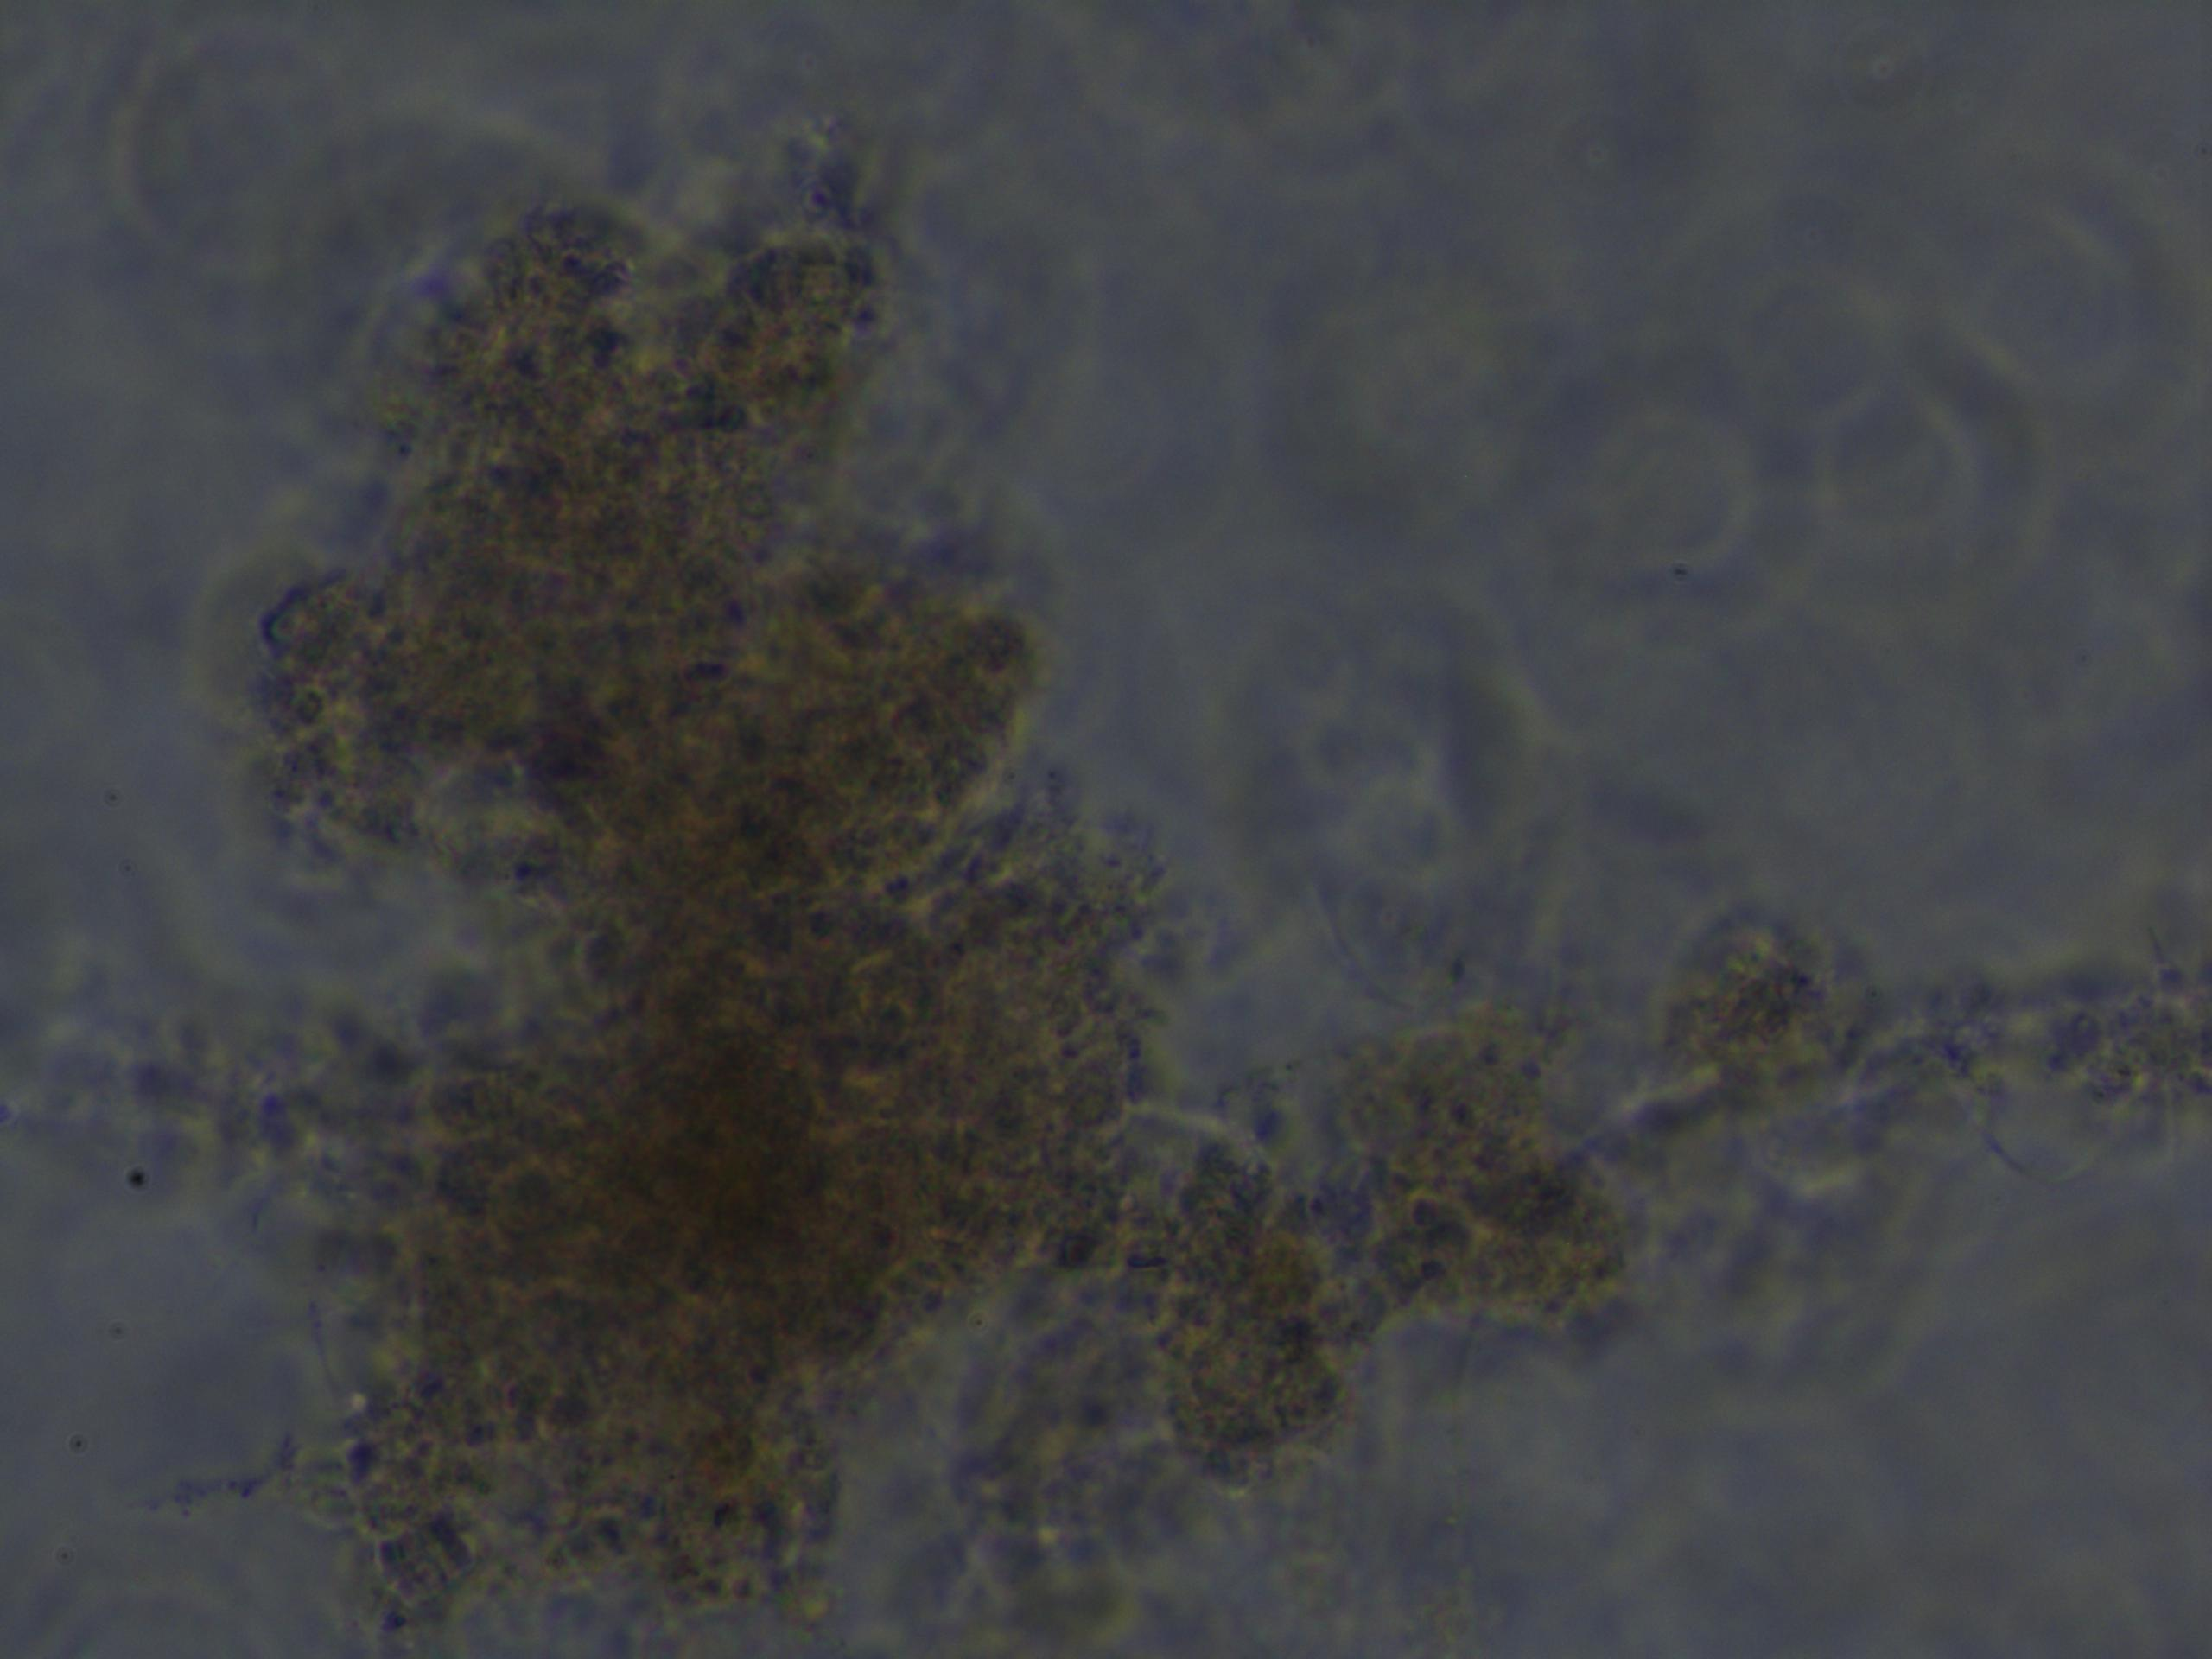filament: (1282, 965, 2212, 1427)
open_floc: (242, 192, 1143, 1610)
